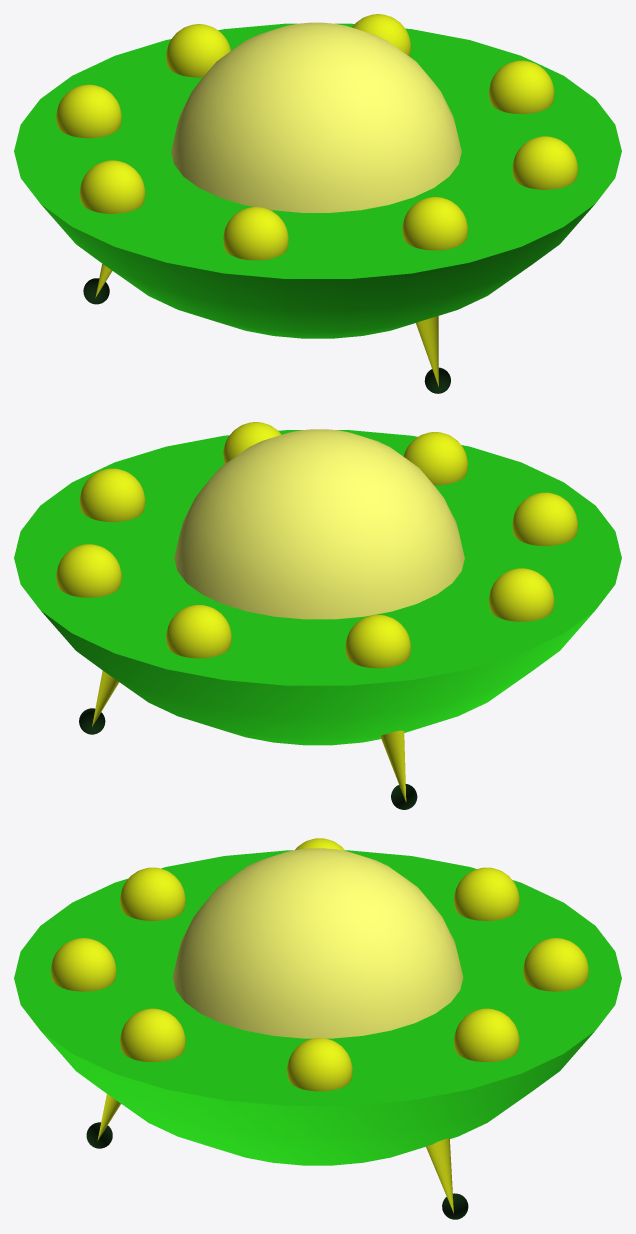
3 renders of one model, top to bottom at view 1: azimuth 30°, elevation 25°; view 2: azimuth 150°, elevation 25°; view 3: azimuth 270°, elevation 25°, orthographic.
Visible parts, largest first — view 1: Sphere002; view 2: Sphere002; view 3: Sphere002.
Boxes of the visible parts, left/top/right/bottom form: Sphere002: left=14, top=14, right=621, bottom=393; Sphere002: left=14, top=422, right=621, bottom=809; Sphere002: left=14, top=838, right=621, bottom=1219.
Size of the model in its own units: 91.26 by 46.53 by 91.76.
